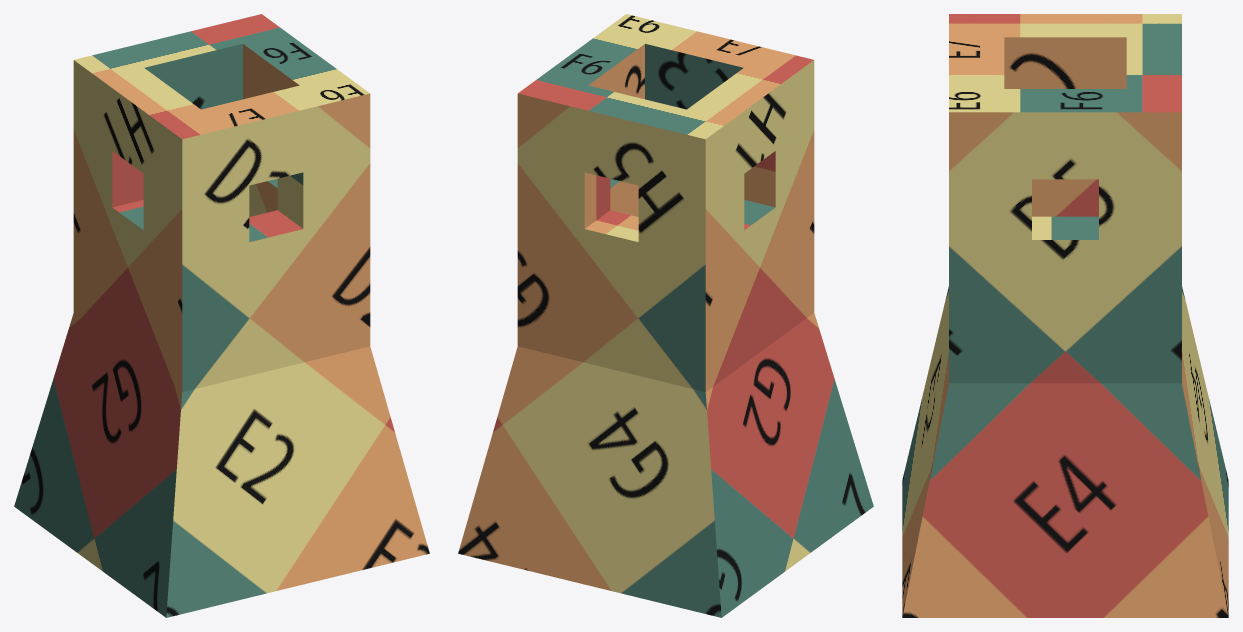
File: newtest.fbx
3 renders of one model, left to right at view 1: azimuth 30°, elevation 25°; view 2: azimuth 150°, elevation 25°; view 3: azimuth 270°, elevation 25°, orthographic. The views are drawn at different scales.
Parts seen in each view (by area): view 1: Cube.001; view 2: Cube.001; view 3: Cube.001.
Part boxes in pixels (x1,y1,x2,y2): Cube.001: (14, 14, 429, 617); Cube.001: (458, 14, 873, 617); Cube.001: (902, 14, 1228, 617).
Bounding box in the file's own units: 59.52 × 97.82 × 59.52.
Materials: 1 (1 with a texture image).
